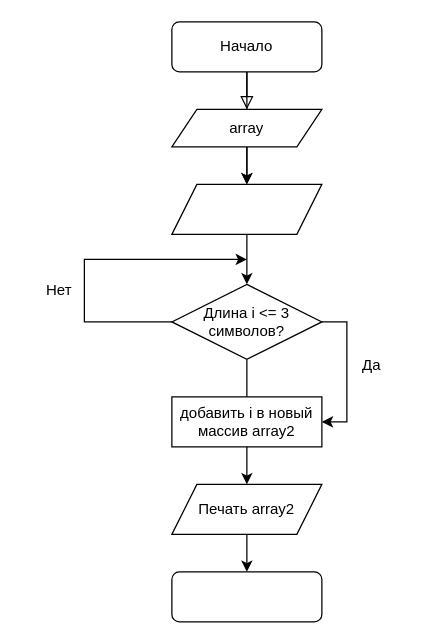
Image size: 430x644. Some labels were removed from this diagram. Each missing label, with the centre of its shape:
"Конец" belongs at pixel 246 596.
"Печать первоначального массива" belongs at pixel 246 208.
